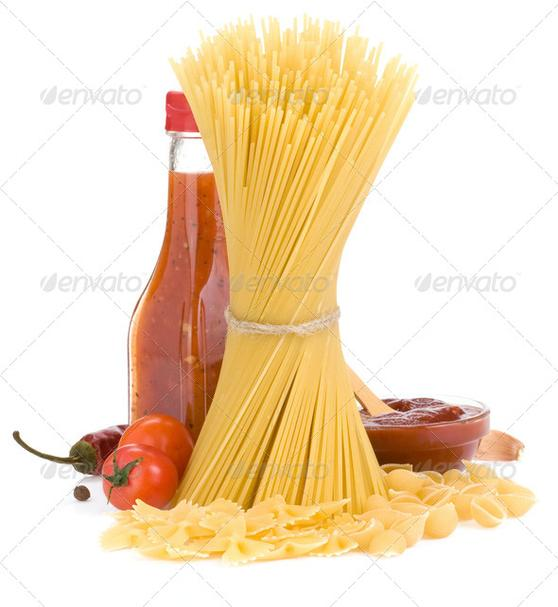spaghetti: (177, 22, 406, 513)
